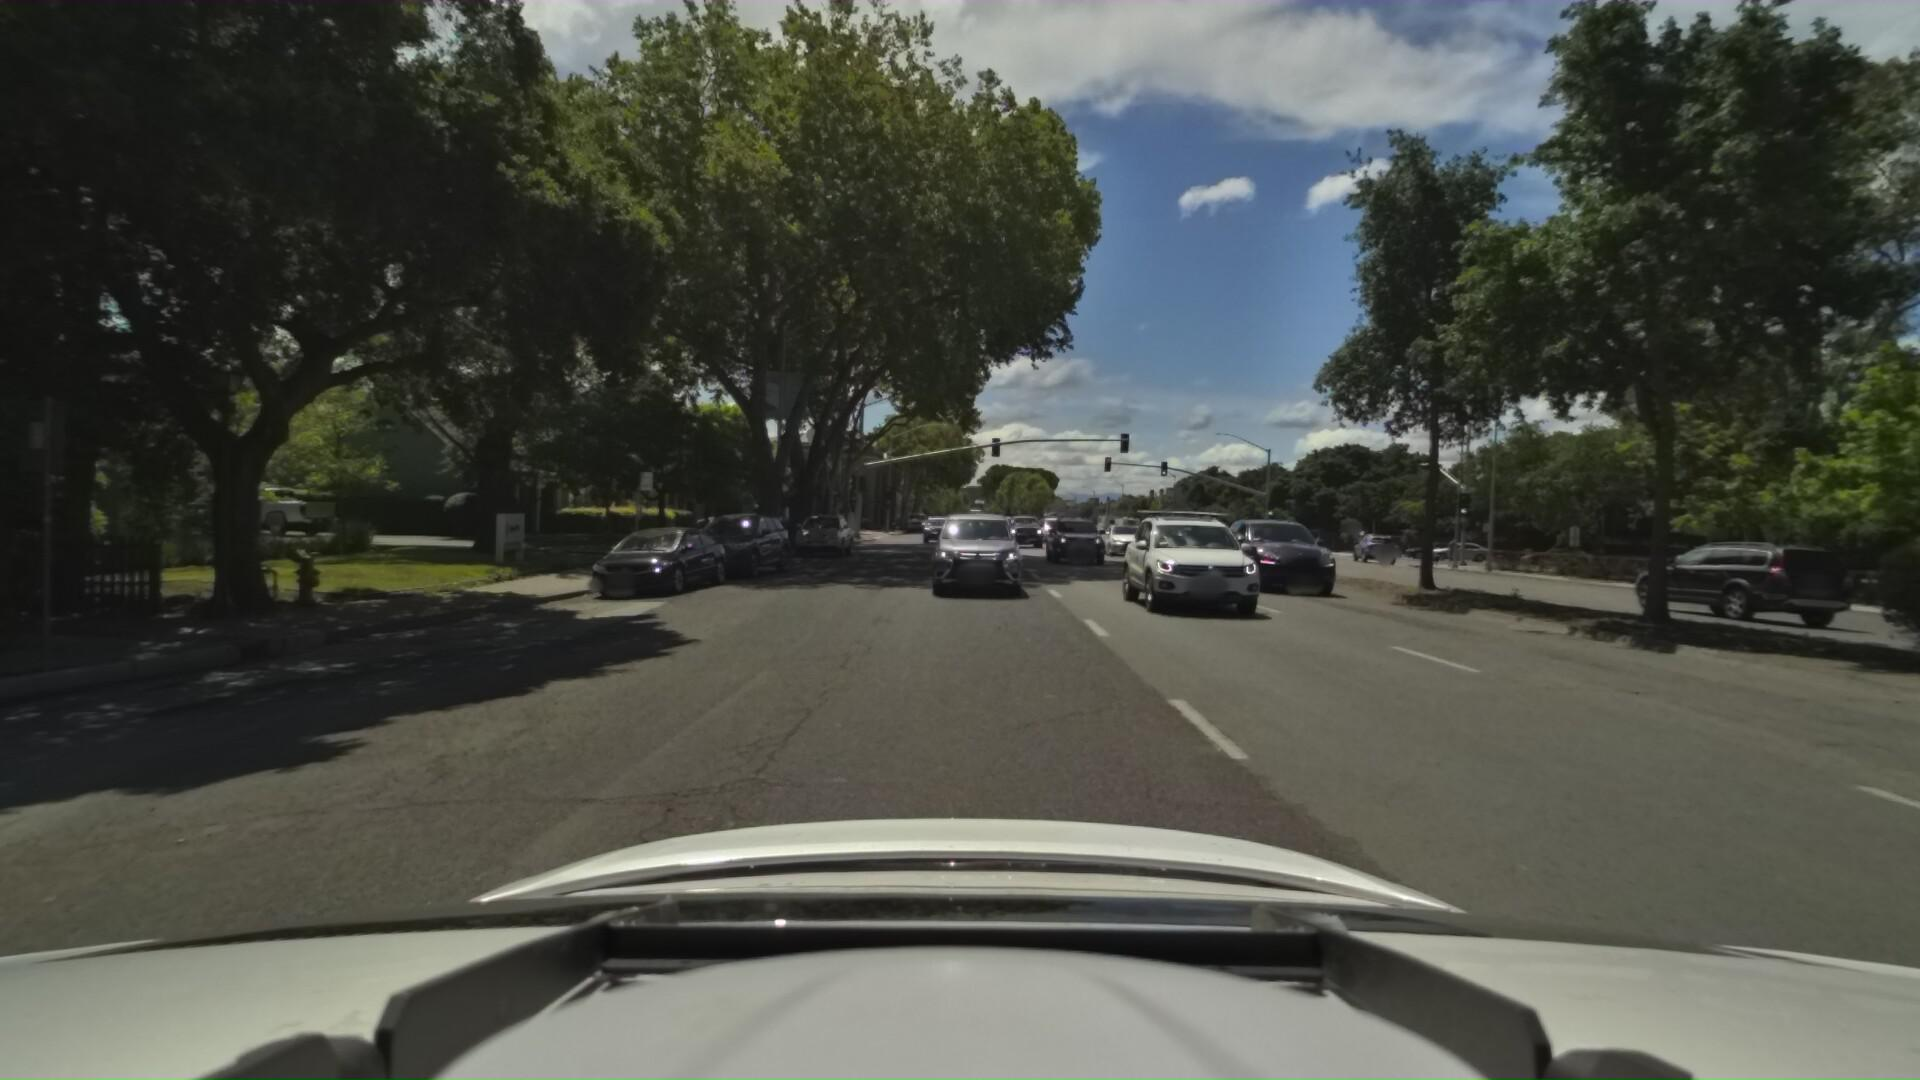car: (1640, 533, 1884, 633), (1102, 502, 1247, 616), (582, 521, 746, 603), (1197, 514, 1327, 593), (920, 506, 1026, 603), (187, 477, 349, 539), (674, 506, 800, 582), (789, 509, 856, 560), (1036, 512, 1100, 564), (1091, 518, 1145, 556), (1414, 537, 1486, 563), (1341, 530, 1394, 562), (1393, 537, 1462, 560), (1002, 512, 1047, 549), (916, 510, 953, 543), (1036, 514, 1069, 543)
